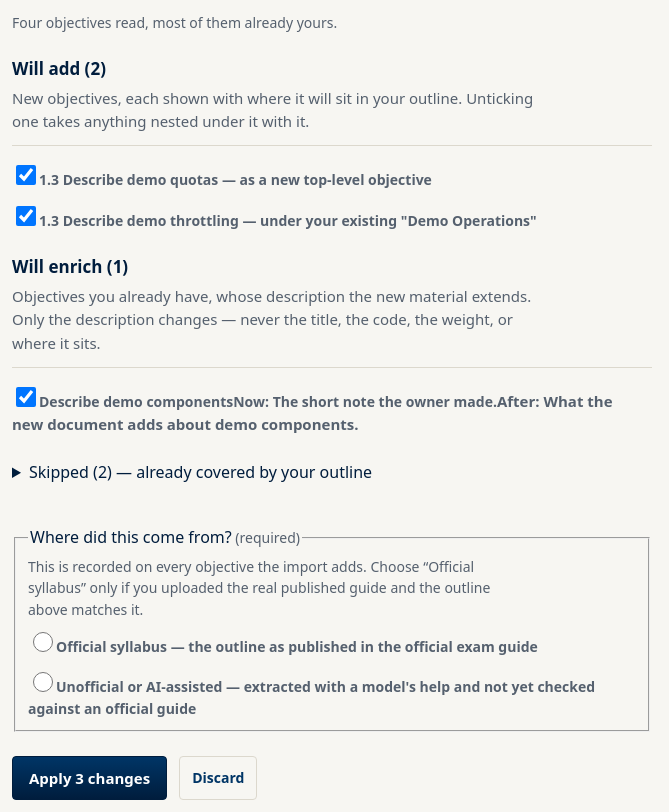
Test: ObjectiveImportConfirm › a merge into an existing outline › collapses the skips but keeps them reachable, with their reasons
The image size is (669, 812).
Expected: the text "Already covered by the objective you wrote yourself" is not shown
Click the heading "Skipped (2) — already covered by your outline": coordinates (200, 472) left=29, top=461, right=372, bottom=483
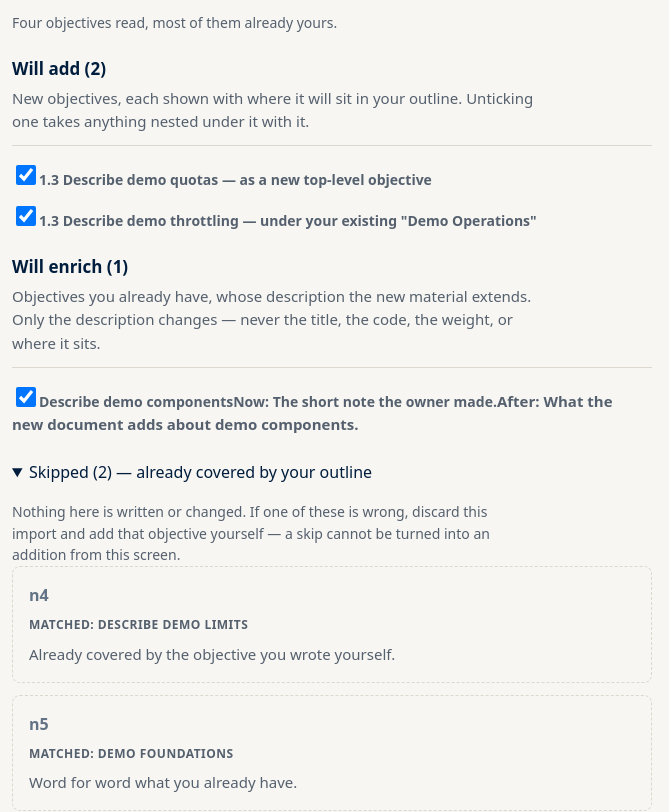
Now the text "Already covered by the objective you wrote yourself." is shown, box left=29, top=644, right=395, bottom=664
Now the text "Word for word what you already have." is shown, box left=29, top=772, right=297, bottom=792
Now the text "Matched: Describe demo limits" is shown, box left=29, top=616, right=248, bottom=633
